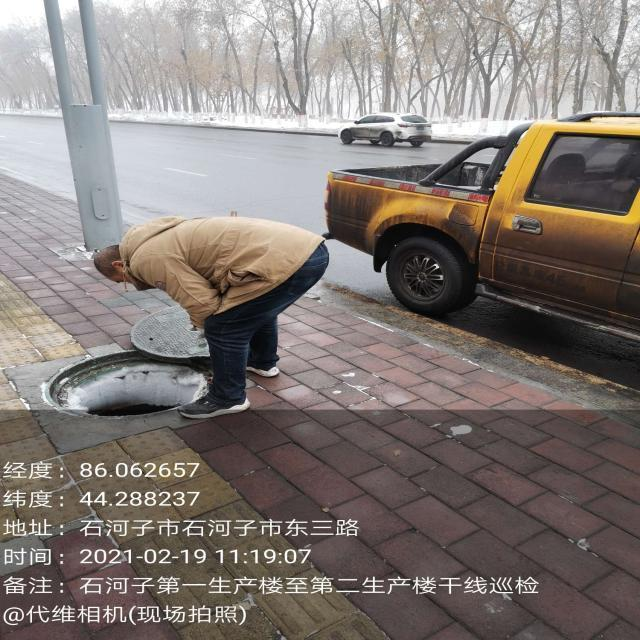manhole: (42, 351, 208, 414)
